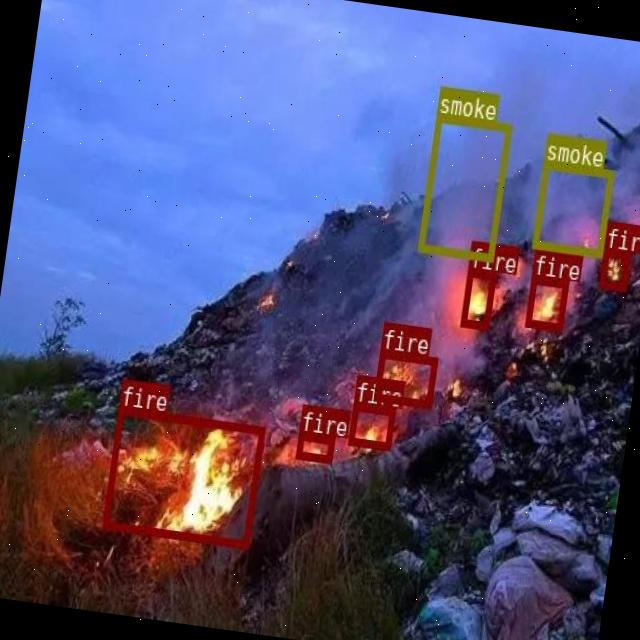fire: (101, 406, 264, 547), (374, 349, 436, 407), (524, 274, 568, 331), (347, 402, 395, 449), (460, 267, 496, 327), (598, 248, 630, 289), (295, 430, 334, 462)
smoke: (417, 114, 511, 260), (532, 160, 614, 256)
